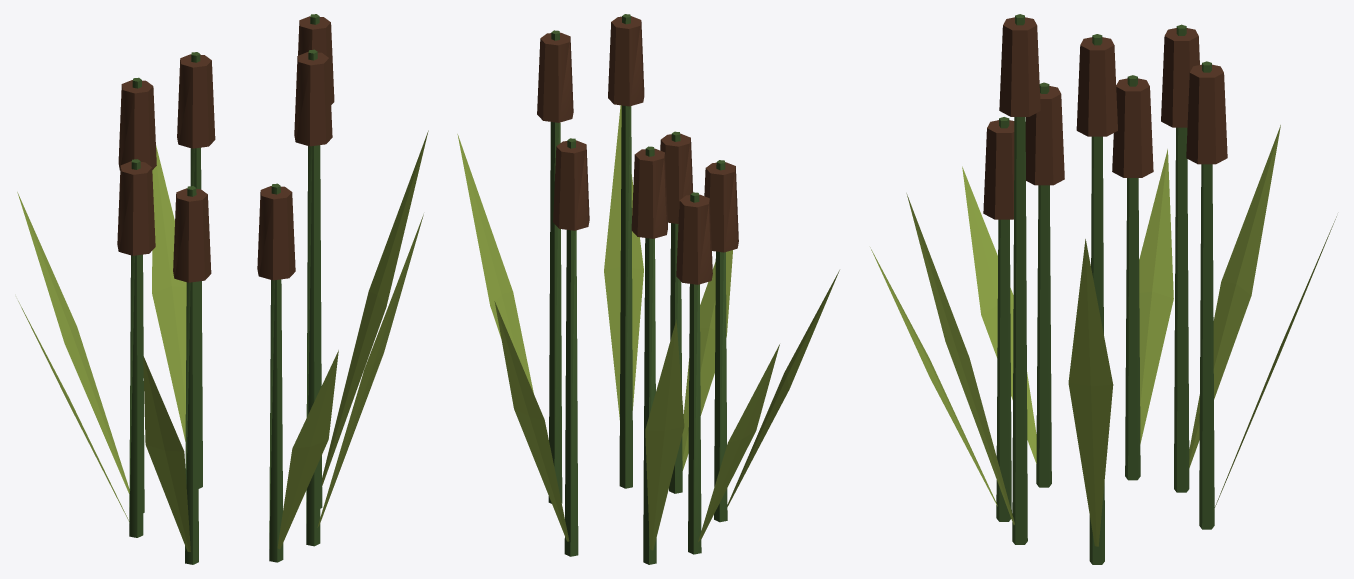
File: 96_cattail_clump.fbx
3 renders of one model, left to right at view 1: azimuth 30°, elevation 25°; view 2: azimuth 150°, elevation 25°; view 3: azimuth 270°, elevation 25°, orthographic. The views are drawn at different scales.
Parts seen in each view (by area): view 1: 96_cattail_clump; view 2: 96_cattail_clump; view 3: 96_cattail_clump.
Part boxes in pixels (left/top/right/bottom): 96_cattail_clump: left=17, top=14, right=428, bottom=564; 96_cattail_clump: left=457, top=14, right=839, bottom=564; 96_cattail_clump: left=870, top=14, right=1336, bottom=564.
Size of the model in its own units: 1.14 by 1.42 by 1.15.
1 material, 1 textured.
